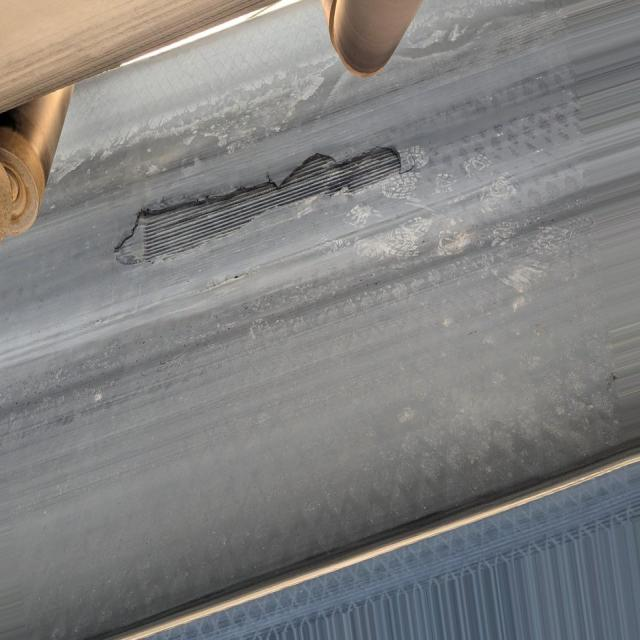Roller: (0, 88, 74, 244), (317, 0, 419, 77)
Tear: (107, 143, 403, 267)
